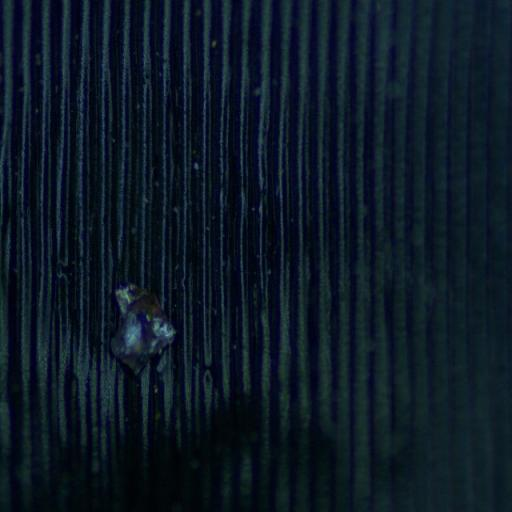mineral: (110, 283, 176, 375)
